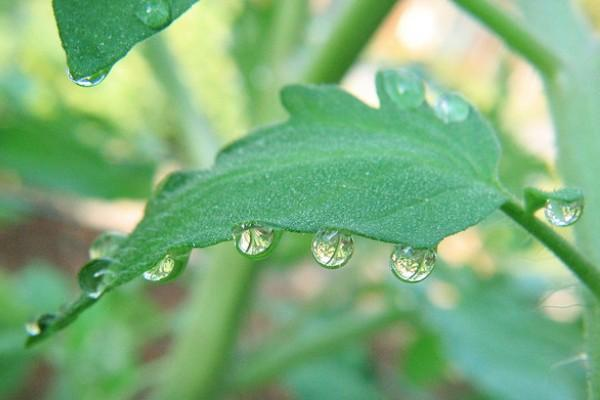Healthy: (17, 60, 515, 355)
